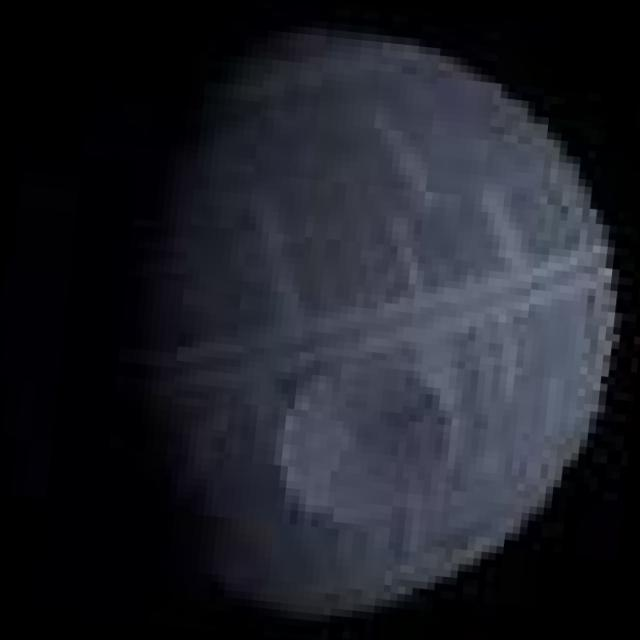Death Star: (106, 4, 640, 640)
